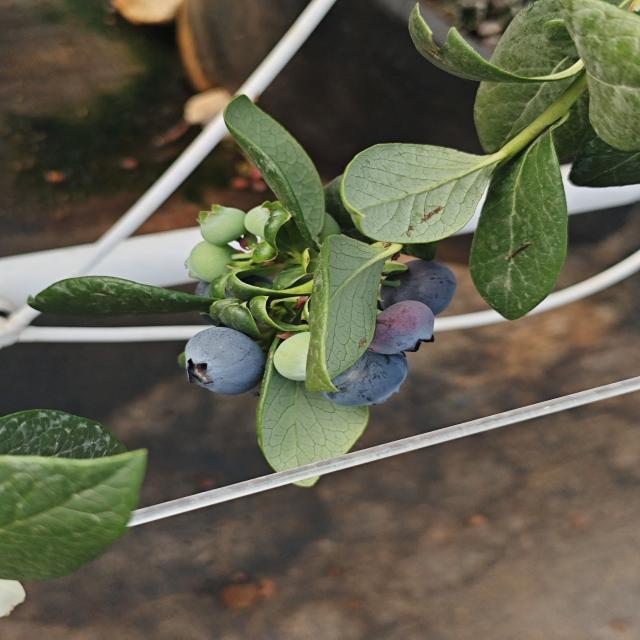ripe: (172, 326, 268, 399), (376, 248, 466, 321), (318, 345, 416, 411), (360, 296, 444, 356), (190, 268, 287, 316)
